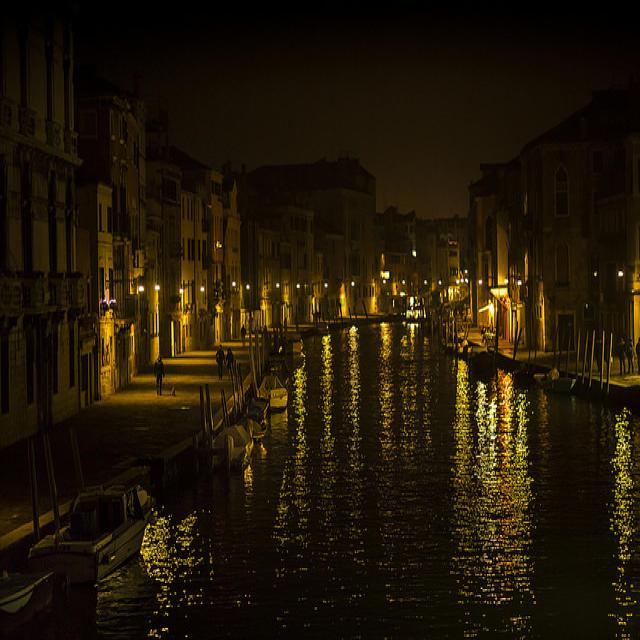Boat: (34, 443, 163, 579), (196, 395, 277, 473), (0, 559, 46, 640), (251, 369, 301, 418)
